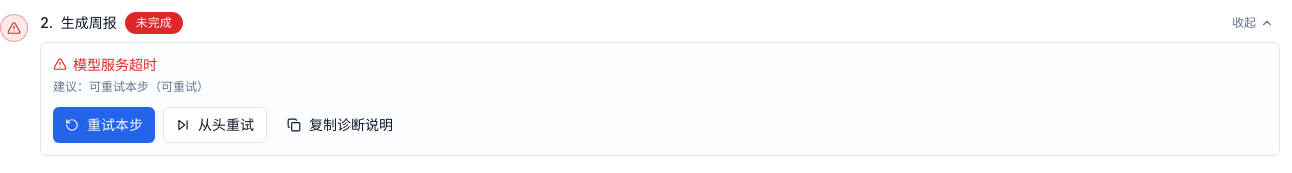
Scenario: StepTimeline › 失败步骤可收起再展开（手动切换优先于默认策略）
Later steps or results of the test are not shown.
Step 1. Click the button "收起" → x=1253, y=23, box [1226,13,1280,33]
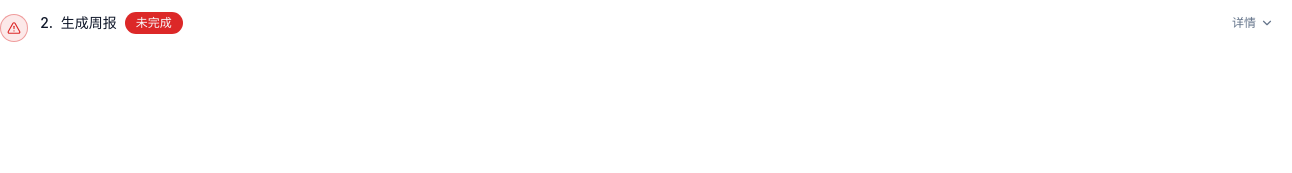
Result: the text "模型服务超时" is gone
